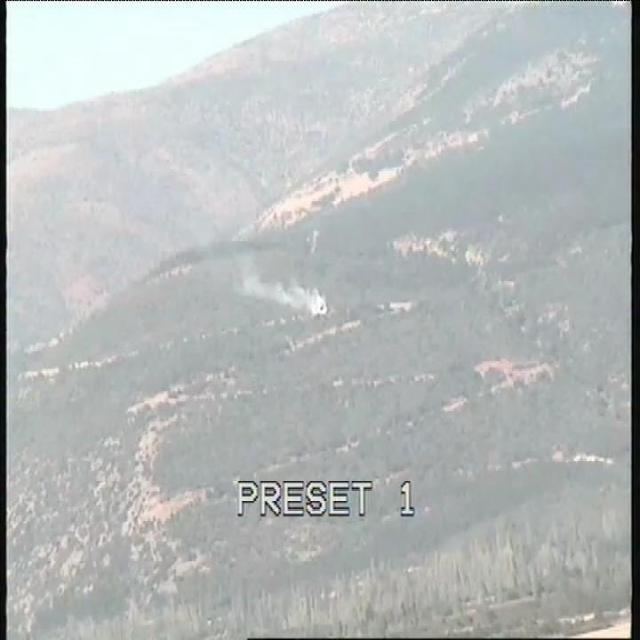Smoke: (230, 266, 330, 316)
